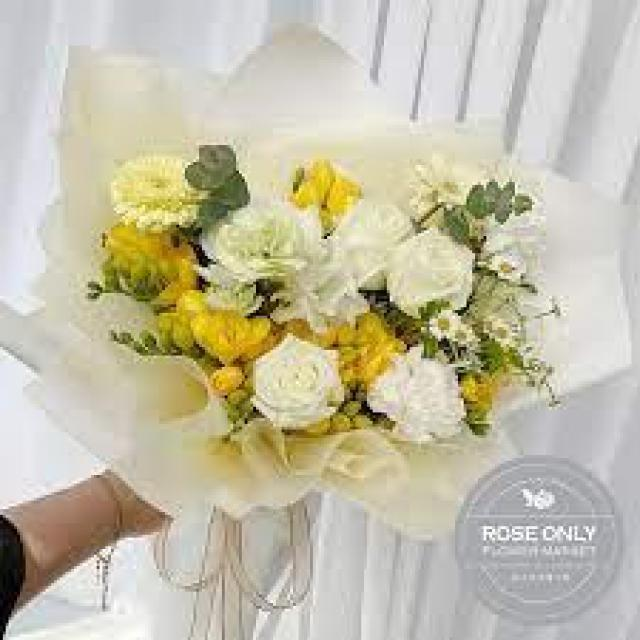freesia: (181, 296, 268, 352)
